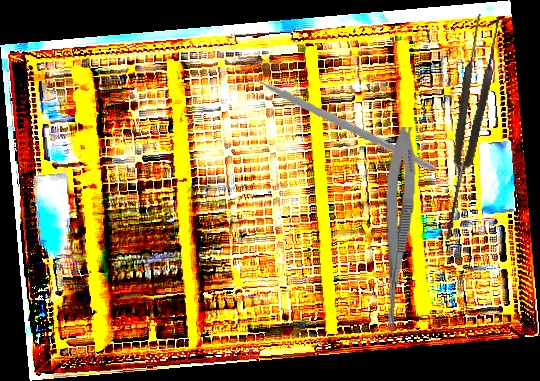Chopper: (236, 39, 438, 187)
Micro Scissor: (377, 125, 420, 339)
Tissue Forceps: (432, 13, 504, 242)
